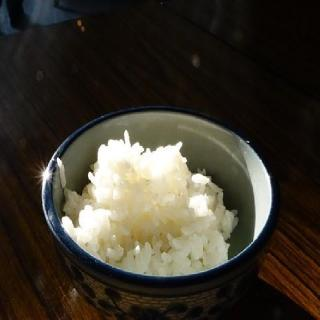Nasi: (59, 130, 239, 280)
